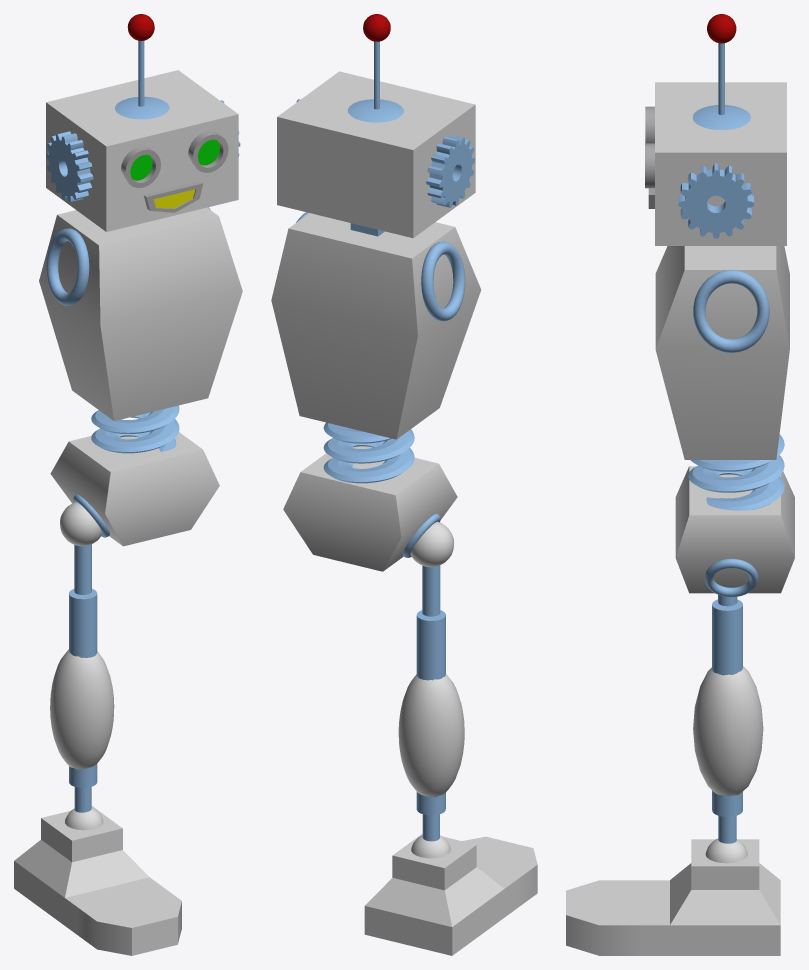
File: DetaRightLegNoArm.fbx
3 renders of one model, left to right at view 1: azimuth 30°, elevation 25°; view 2: azimuth 150°, elevation 25°; view 3: azimuth 270°, elevation 25°, orthographic. The views are drawn at different scales.
Visible parts, largest first — view 1: DetaBody, DetaRightLeg, DetaHead; view 2: DetaBody, DetaHead, DetaRightLeg; view 3: DetaBody, DetaRightLeg, DetaHead.
Part boxes in pixels (box(x1,y1,x2,y2)): DetaBody: box(39, 207, 242, 546); DetaRightLeg: box(14, 502, 181, 955); DetaHead: box(46, 14, 240, 231); DetaBody: box(271, 212, 481, 571); DetaHead: box(277, 14, 475, 238); DetaRightLeg: box(364, 521, 537, 955); DetaBody: box(655, 246, 794, 597); DetaRightLeg: box(566, 595, 780, 955); DetaHead: box(645, 14, 786, 245).
Bounding box in the file's own units: 0.9055 × 4.19 × 0.916.
